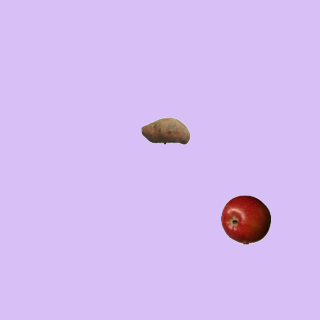Apple Braeburn: (220, 194, 270, 244)
Potato Sweet: (140, 105, 190, 155)
